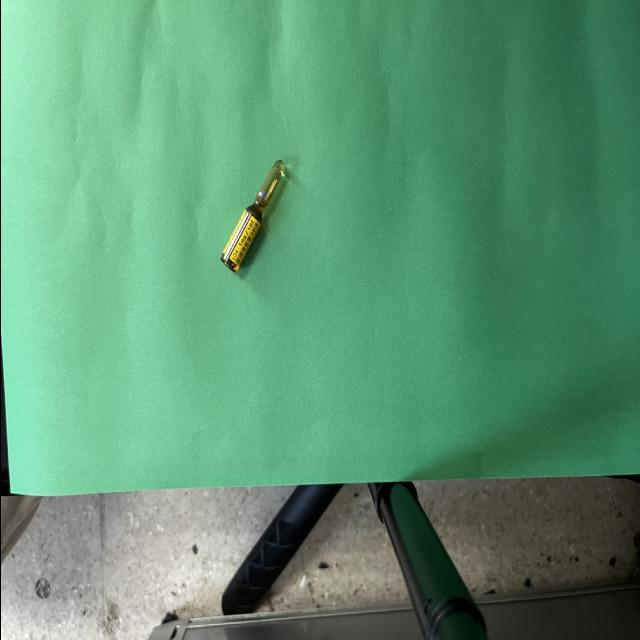Ampoules: (220, 161, 284, 273)
